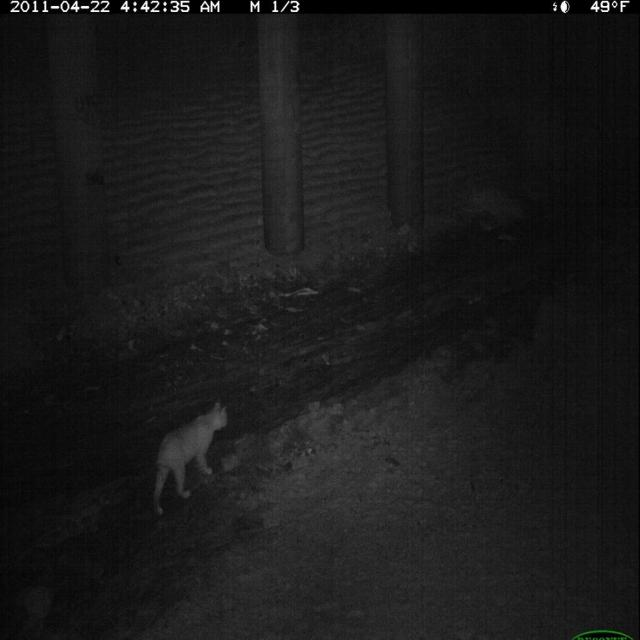bobcat: (150, 398, 232, 523)
